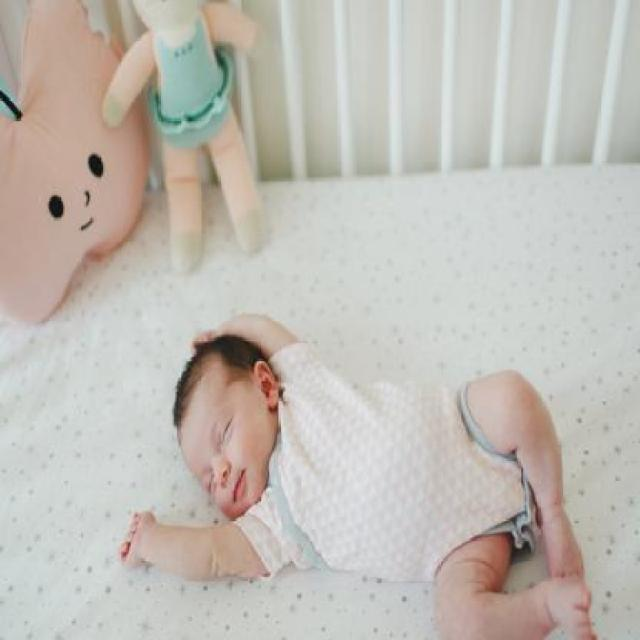baby: (120, 313, 598, 639)
